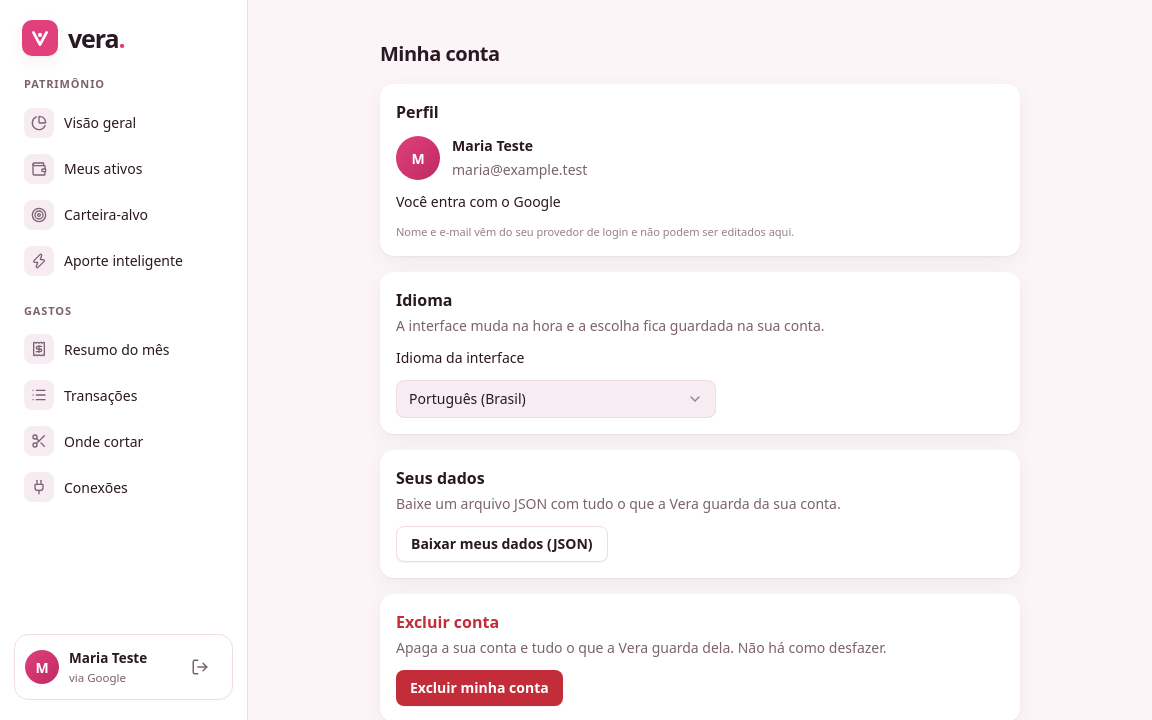
Test: account language › lists the languages in their own names
The image size is (1152, 720).
Expected: the heading "Minha conta" is shown, [380, 40, 500, 67]
Click the dropdown named "Idioma da interface". click: (467, 398)
box: [396, 380, 716, 418]
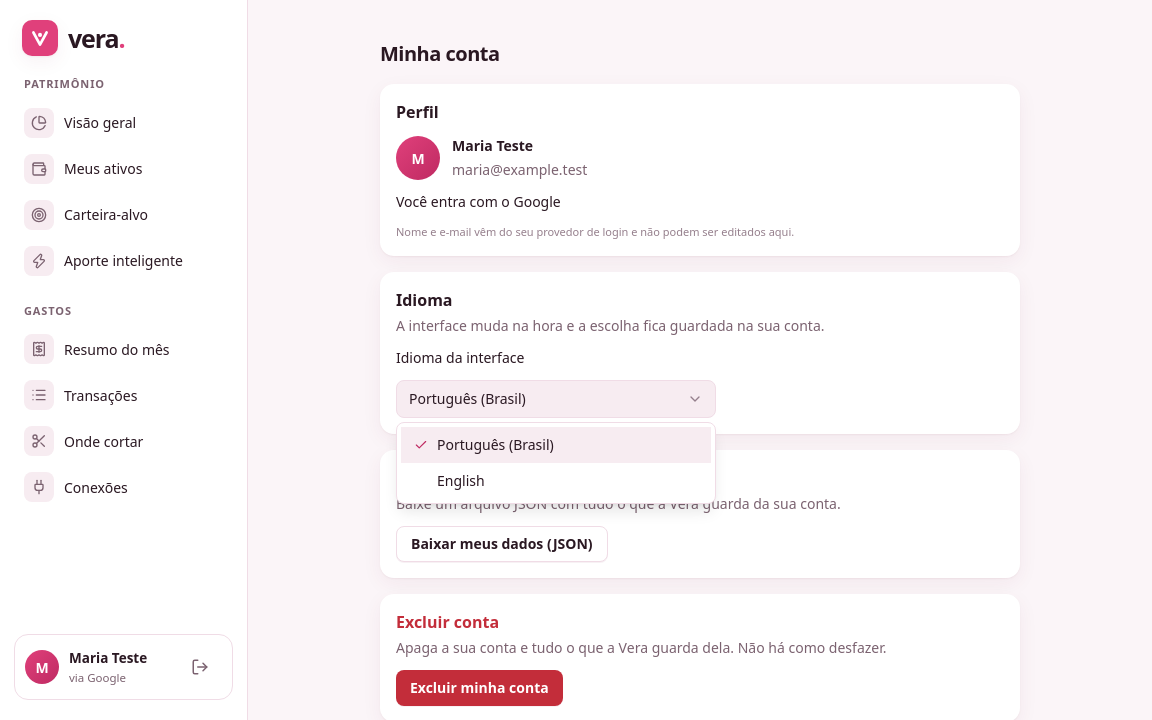
Result: the option "Português (Brasil)" is shown at [401, 427, 711, 463]
Result: the option "English" is shown at [437, 471, 485, 490]
